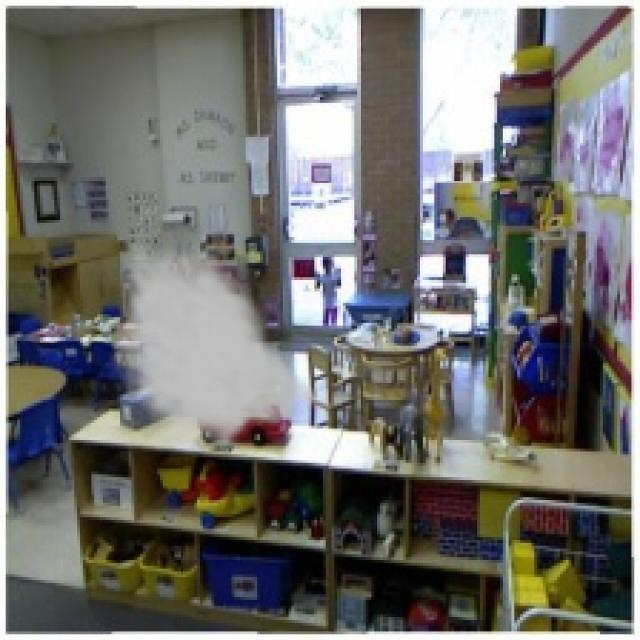smoke: (109, 232, 340, 454)
